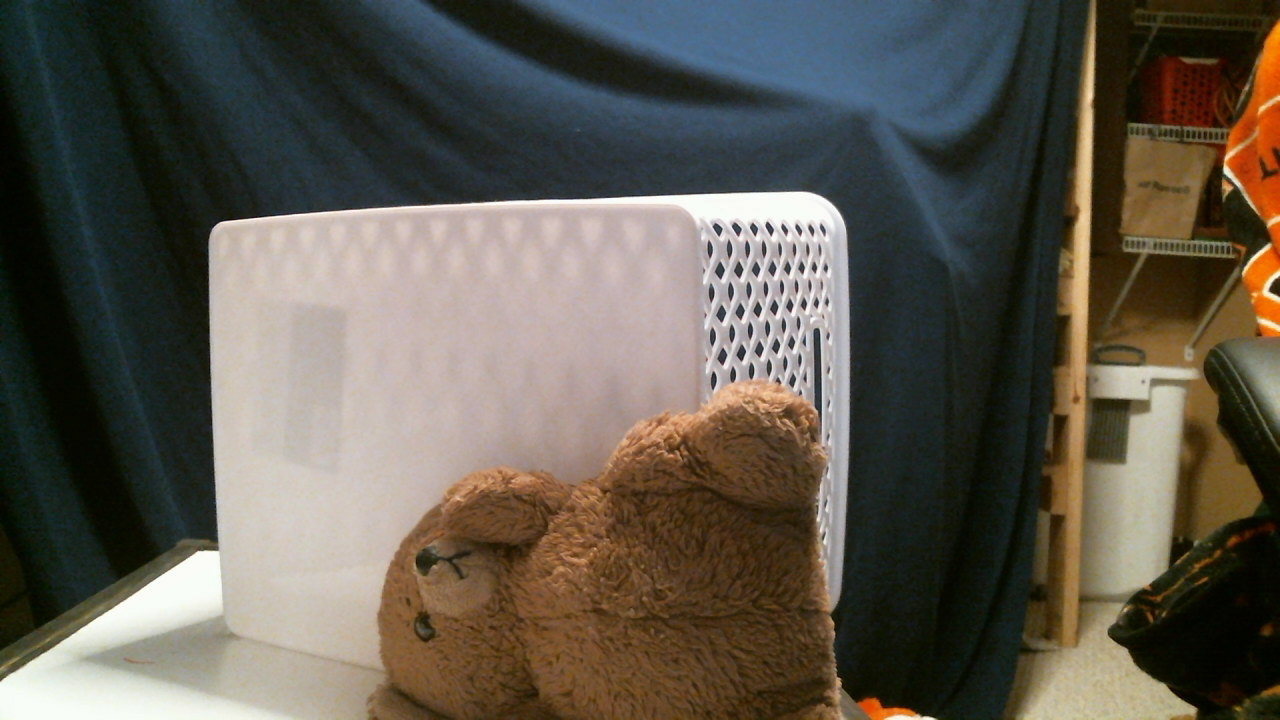Little_Mister_Bear: (404, 539, 498, 648)
